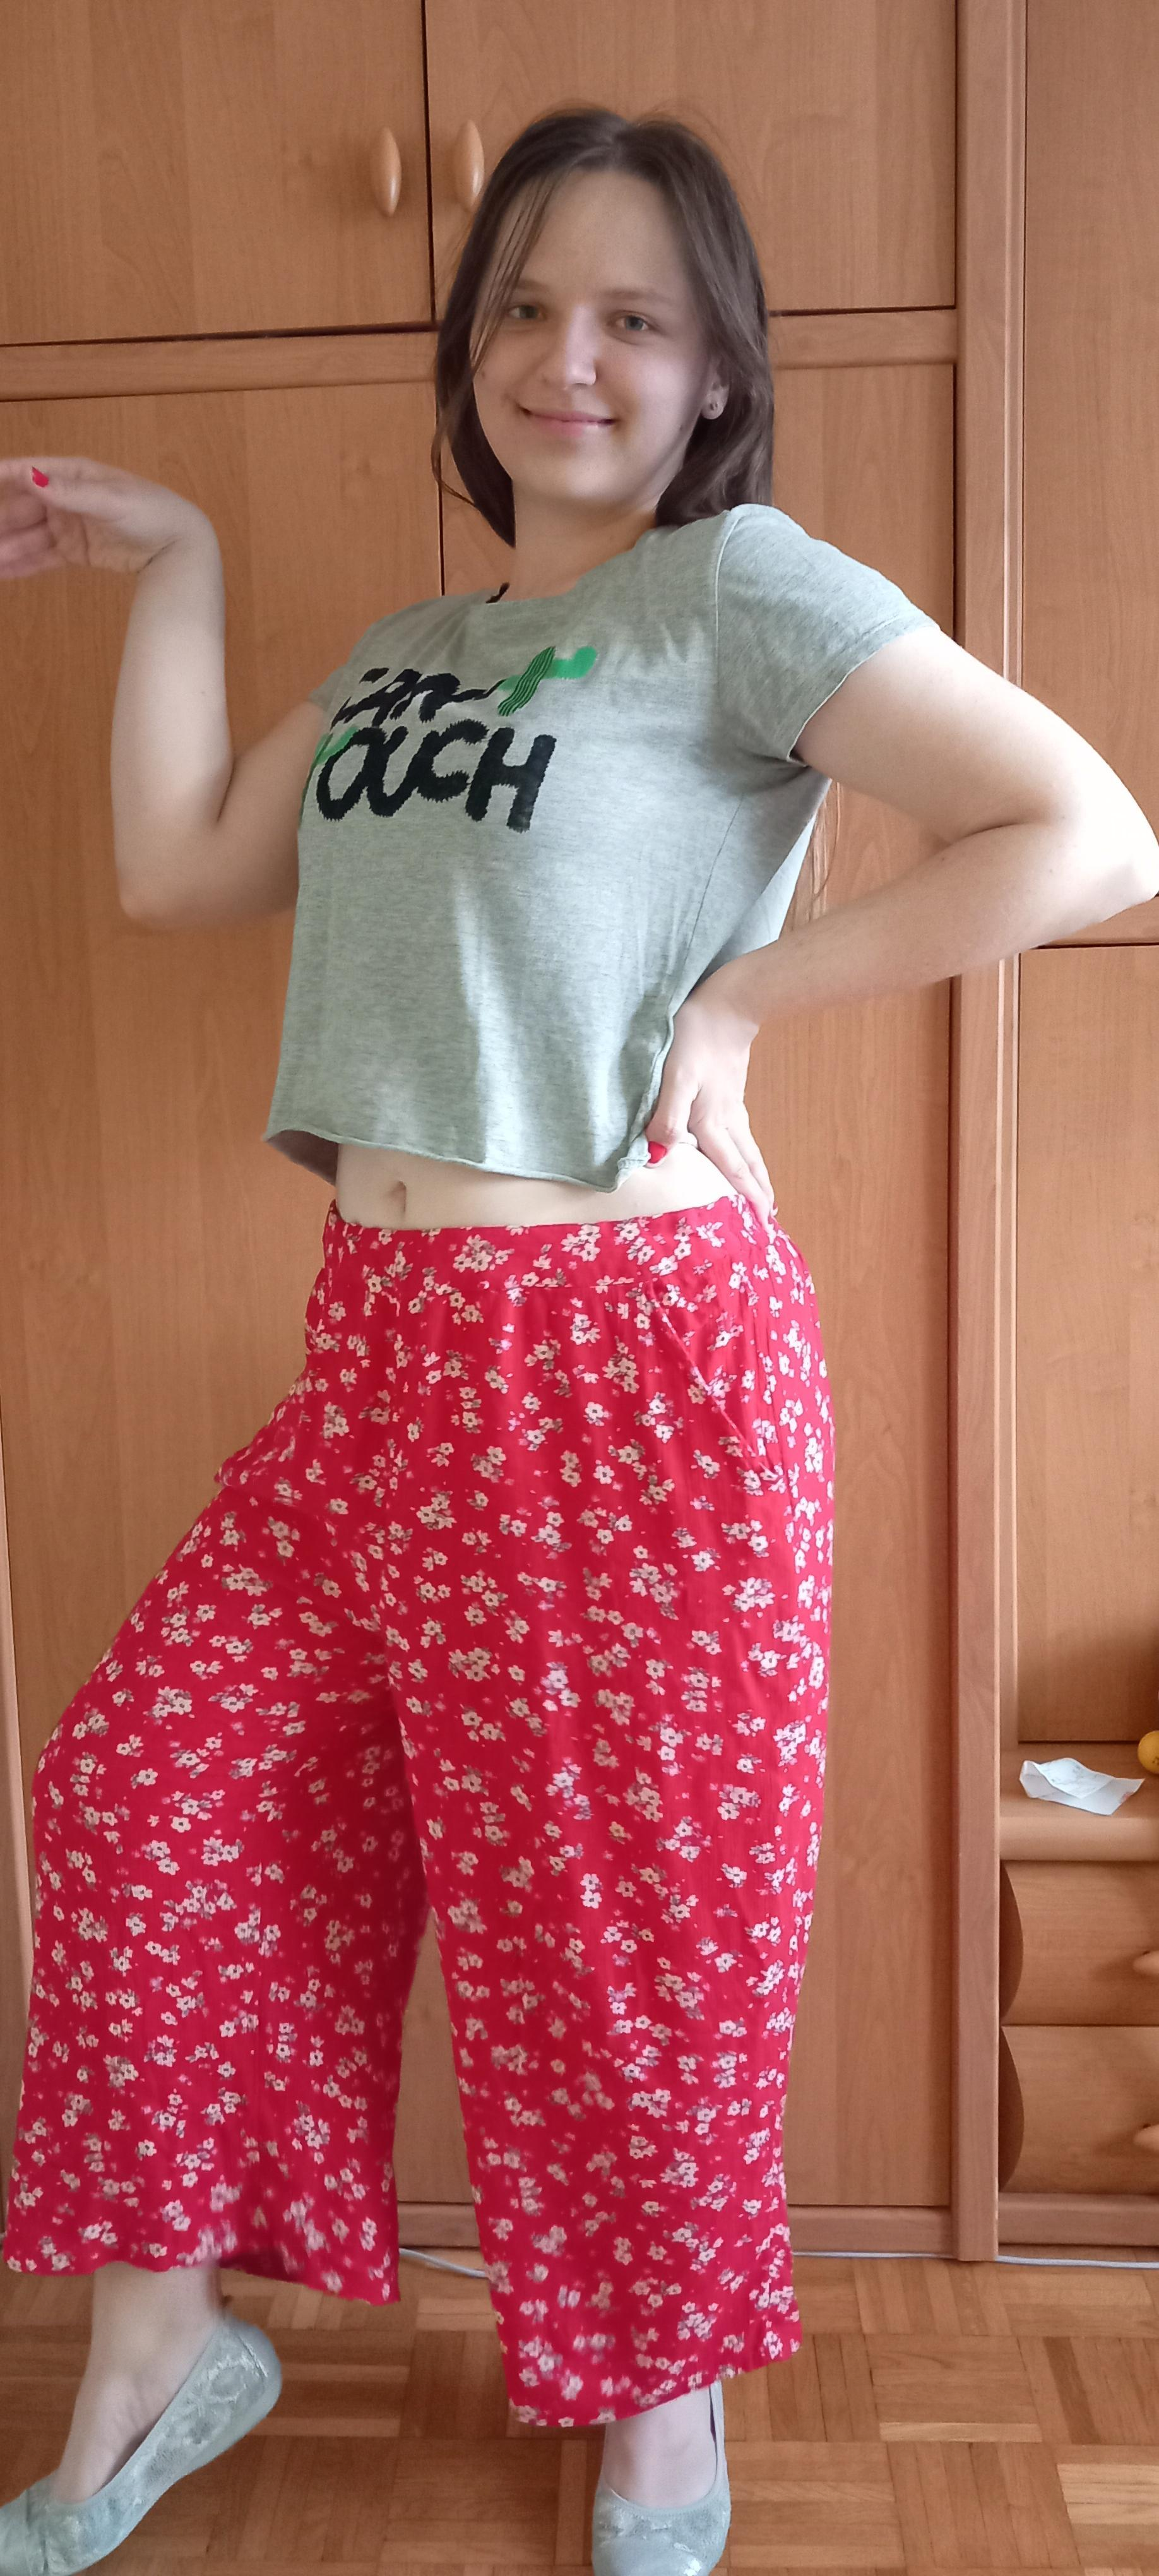Tshirt: (253, 503, 946, 1193)
pants: (25, 1203, 836, 2430)
